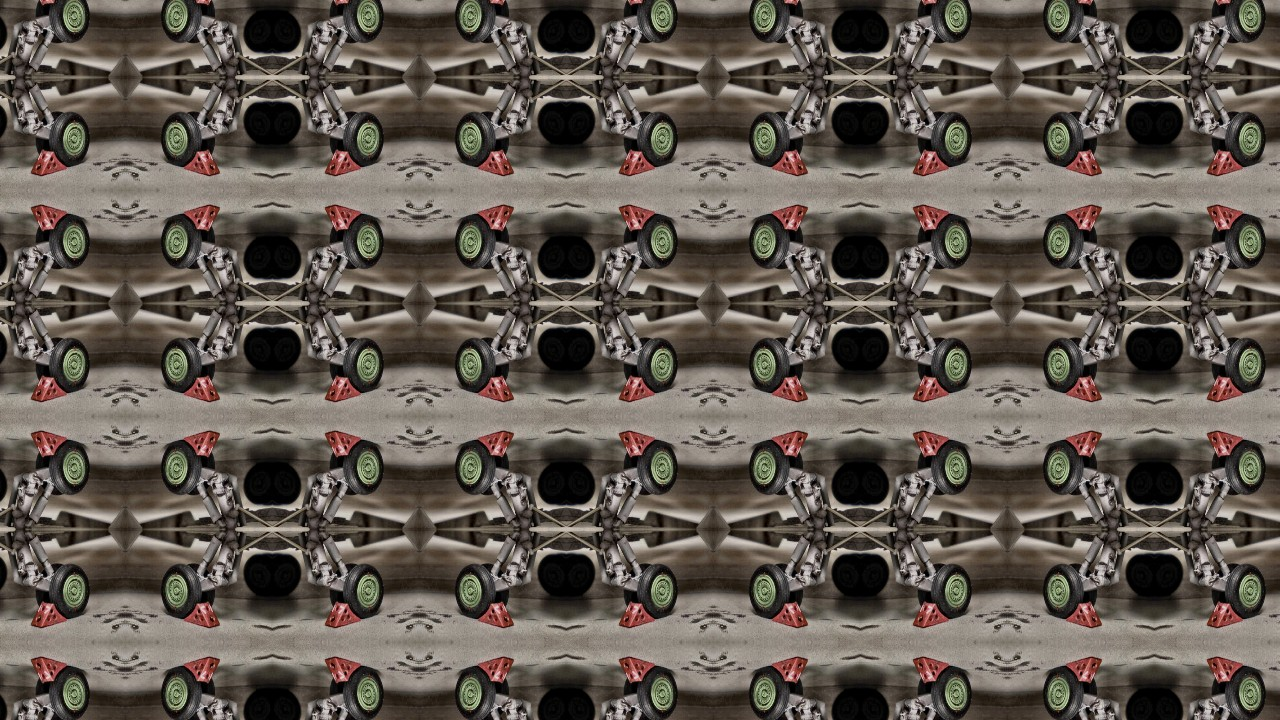chock: (29, 146, 67, 177), (182, 146, 220, 177), (323, 146, 361, 177), (477, 146, 515, 177), (618, 146, 656, 177), (771, 146, 809, 177), (912, 146, 950, 177), (1066, 146, 1104, 177), (1207, 146, 1245, 177), (29, 203, 67, 234), (182, 203, 220, 234), (323, 203, 361, 234), (477, 203, 515, 234), (618, 203, 656, 234), (771, 203, 809, 234), (912, 203, 950, 234), (1066, 203, 1104, 234), (1207, 203, 1245, 234), (29, 599, 67, 630), (182, 599, 220, 630), (323, 599, 361, 630), (477, 599, 515, 630), (618, 599, 656, 630), (771, 599, 809, 630), (912, 599, 950, 630), (1066, 599, 1104, 630), (1207, 599, 1245, 630), (29, 656, 67, 687), (182, 656, 220, 687), (323, 656, 361, 687), (477, 656, 515, 687), (618, 656, 656, 687), (771, 656, 809, 687), (912, 656, 950, 687), (1066, 656, 1104, 687), (1207, 656, 1245, 687), (29, 373, 67, 403), (182, 373, 220, 403), (323, 373, 361, 403), (477, 373, 515, 403), (618, 373, 656, 403), (771, 373, 809, 403), (912, 373, 950, 403), (1066, 373, 1104, 403), (1207, 373, 1245, 403), (29, 430, 67, 460), (182, 430, 220, 460), (323, 430, 361, 460), (477, 430, 515, 460), (618, 430, 656, 460), (771, 430, 809, 460), (912, 430, 950, 460), (1066, 430, 1104, 460), (1207, 430, 1245, 460), (29, 0, 67, 7), (182, 0, 220, 7), (323, 0, 361, 7), (477, 0, 515, 7), (618, 0, 656, 7), (771, 0, 809, 7), (912, 0, 950, 7), (1066, 0, 1104, 7), (1207, 0, 1245, 7)
wheel: (342, 336, 386, 395), (452, 336, 496, 395), (931, 336, 975, 395), (1041, 336, 1085, 395), (342, 438, 386, 497), (452, 438, 496, 497), (931, 438, 975, 497), (1041, 438, 1085, 497), (342, 110, 386, 168), (452, 110, 496, 168), (931, 110, 975, 168), (1041, 110, 1085, 168), (342, 212, 386, 270), (452, 212, 496, 270), (931, 212, 975, 270), (1041, 212, 1085, 270), (342, 563, 386, 621), (452, 563, 496, 621), (931, 563, 975, 621), (1041, 563, 1085, 621), (48, 336, 91, 395), (158, 336, 201, 395), (637, 336, 680, 395), (747, 336, 790, 395), (1226, 336, 1269, 395), (48, 438, 91, 497), (158, 438, 201, 497), (637, 438, 680, 497), (747, 438, 790, 497), (1226, 438, 1269, 497), (48, 110, 91, 168), (158, 110, 201, 168), (637, 110, 680, 168), (747, 110, 790, 168), (1226, 110, 1269, 168), (48, 212, 91, 270), (158, 212, 201, 270), (637, 212, 680, 270), (747, 212, 790, 270), (1226, 212, 1269, 270), (48, 563, 91, 621), (158, 563, 201, 621), (637, 563, 680, 621), (747, 563, 790, 621), (1226, 563, 1269, 621), (342, 665, 386, 720), (452, 665, 496, 720), (931, 665, 975, 720), (1041, 665, 1085, 720), (48, 665, 91, 720), (158, 665, 201, 720), (637, 665, 680, 720), (747, 665, 790, 720), (1226, 665, 1269, 720), (342, 0, 386, 44), (452, 0, 496, 44), (931, 0, 975, 44), (1041, 0, 1085, 44), (48, 0, 91, 44), (158, 0, 201, 44), (637, 0, 680, 44), (747, 0, 790, 44), (1226, 0, 1269, 44), (242, 7, 272, 54), (566, 7, 596, 54), (831, 7, 861, 54), (1155, 7, 1185, 54), (242, 326, 272, 373), (566, 326, 596, 373), (831, 326, 861, 373), (1155, 326, 1185, 373), (242, 460, 272, 507), (566, 460, 596, 507), (831, 460, 861, 507), (1155, 460, 1185, 507), (242, 100, 272, 146), (566, 100, 596, 146), (831, 100, 861, 146), (1155, 100, 1185, 146), (242, 234, 272, 280), (566, 234, 596, 280), (831, 234, 861, 280), (1155, 234, 1185, 280), (242, 553, 272, 599), (566, 553, 596, 599), (831, 553, 861, 599), (1155, 553, 1185, 599), (272, 7, 301, 54), (537, 7, 566, 54), (861, 7, 890, 54), (1126, 7, 1155, 54), (272, 326, 301, 373), (537, 326, 566, 373), (861, 326, 890, 373), (1126, 326, 1155, 373), (272, 460, 301, 507), (537, 460, 566, 507), (861, 460, 890, 507), (1126, 460, 1155, 507), (272, 100, 301, 146), (537, 100, 566, 146), (861, 100, 890, 146), (1126, 100, 1155, 146), (272, 234, 301, 280), (537, 234, 566, 280), (861, 234, 890, 280), (1126, 234, 1155, 280), (272, 553, 301, 599), (537, 553, 566, 599), (861, 553, 890, 599), (1126, 553, 1155, 599), (242, 687, 272, 720), (566, 687, 596, 720), (831, 687, 861, 720), (1155, 687, 1185, 720), (272, 687, 301, 720), (537, 687, 566, 720), (861, 687, 890, 720), (1126, 687, 1155, 720), (0, 7, 7, 54), (0, 326, 7, 373), (0, 460, 7, 507), (0, 100, 7, 146), (0, 234, 7, 280), (0, 553, 7, 599), (0, 687, 7, 720)
